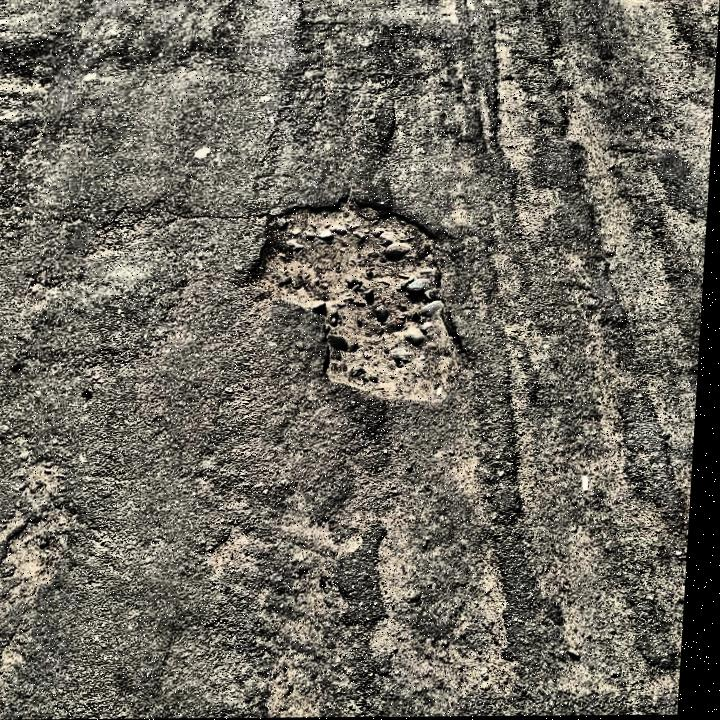pothole: (238, 191, 484, 412)
